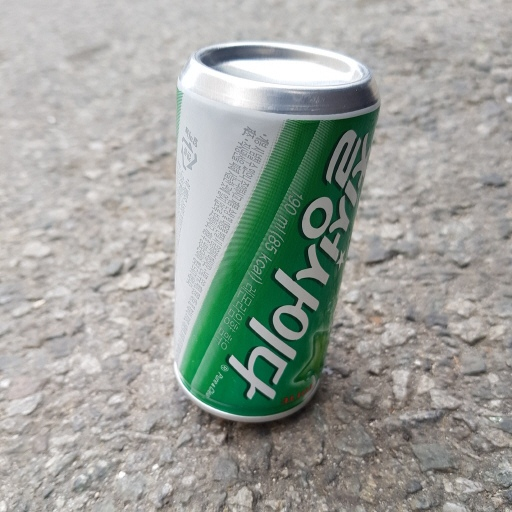Metal_0: (168, 40, 384, 425)
